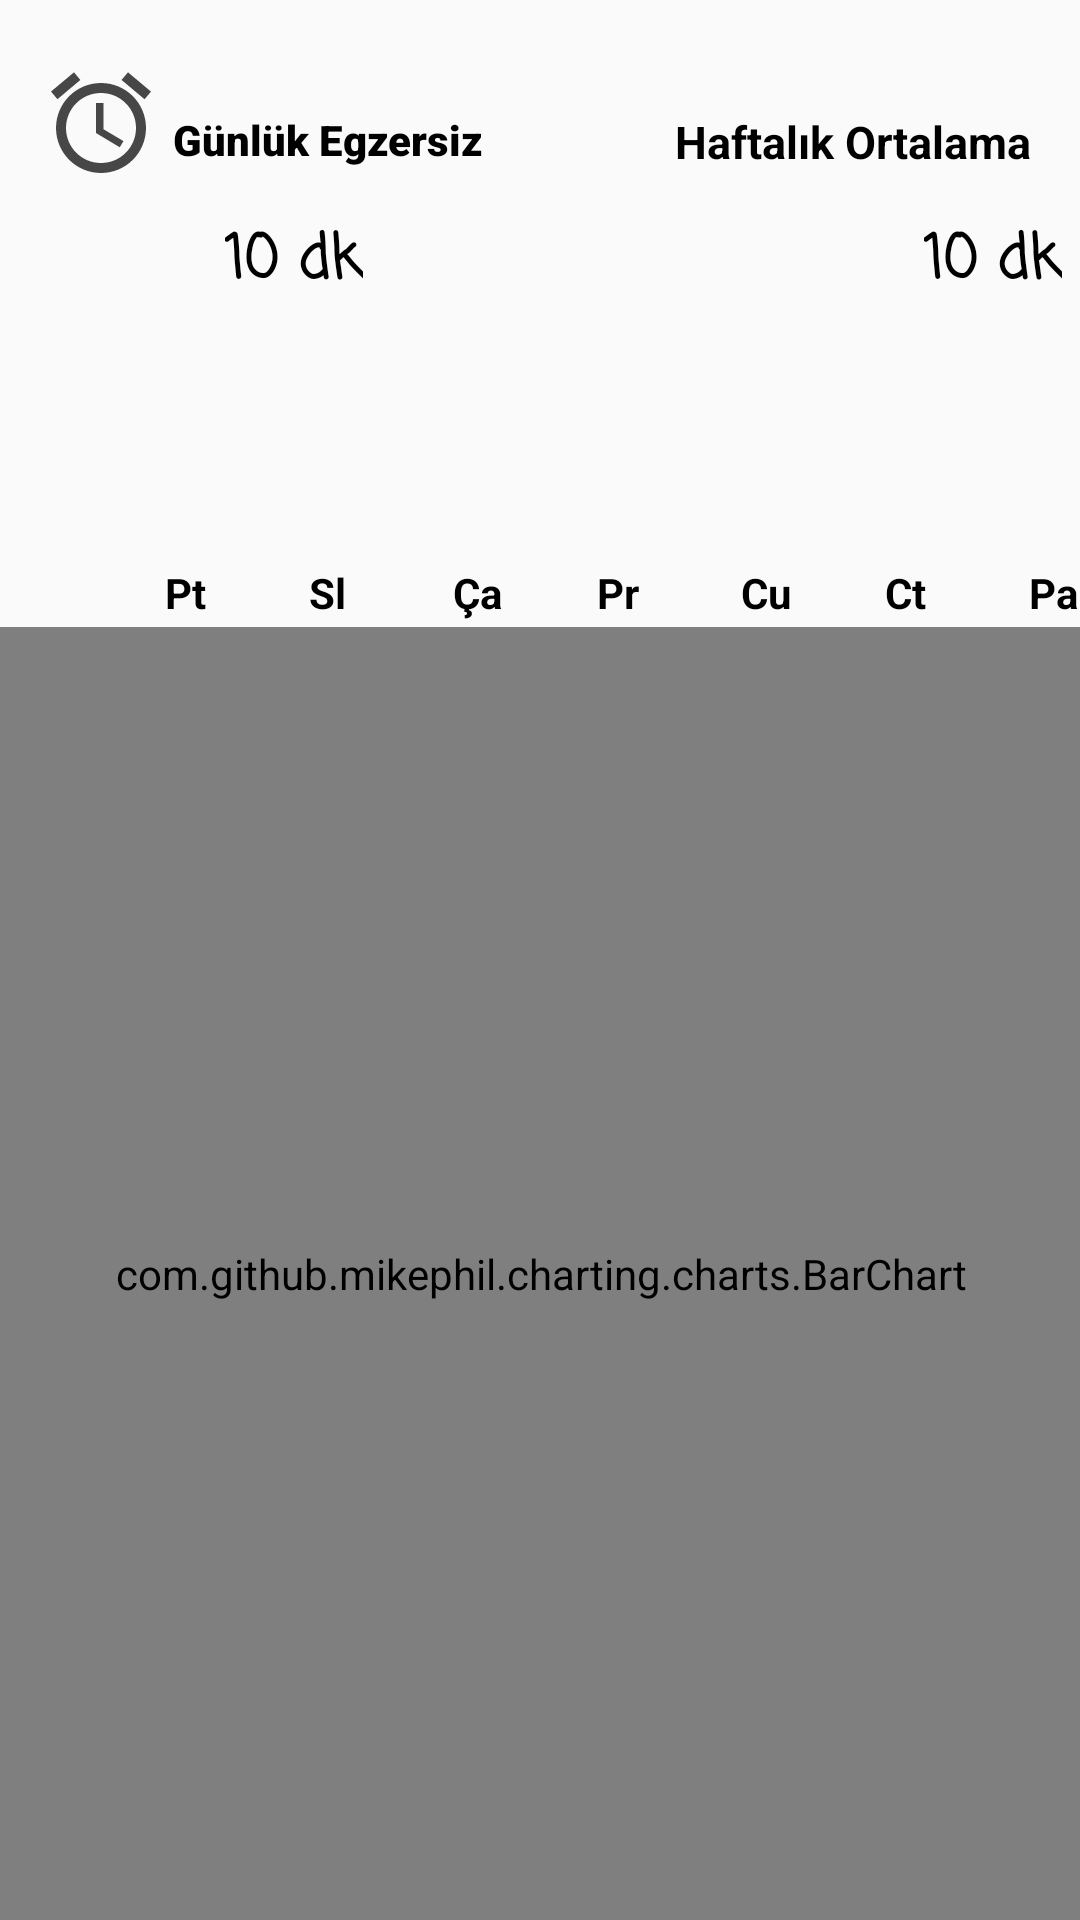

Screen size 1080 × 1920. Icon name, then its center in pixels as [x,y]:
clock: [101,122]
